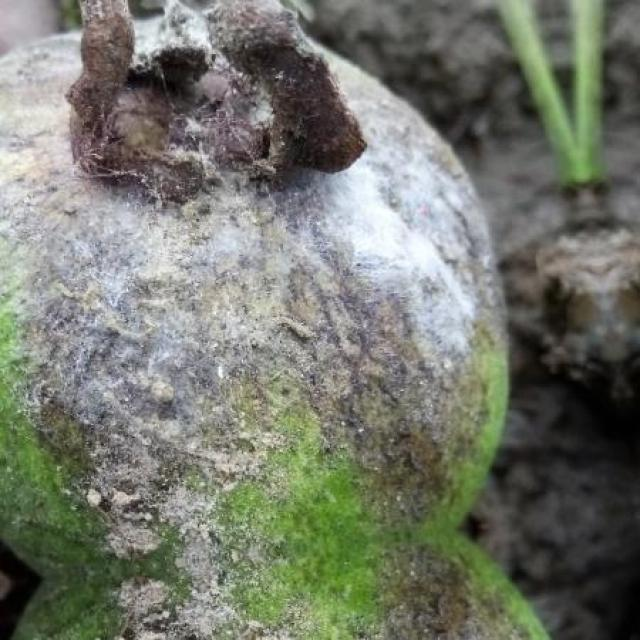Phytopthora: (0, 34, 546, 639)
